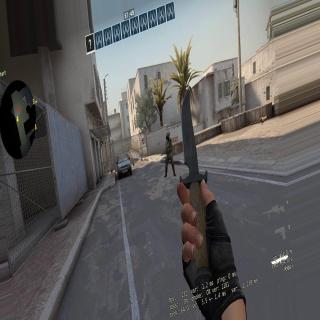CT-Body: (163, 129, 174, 181)
CT-Head: (166, 132, 170, 140)
